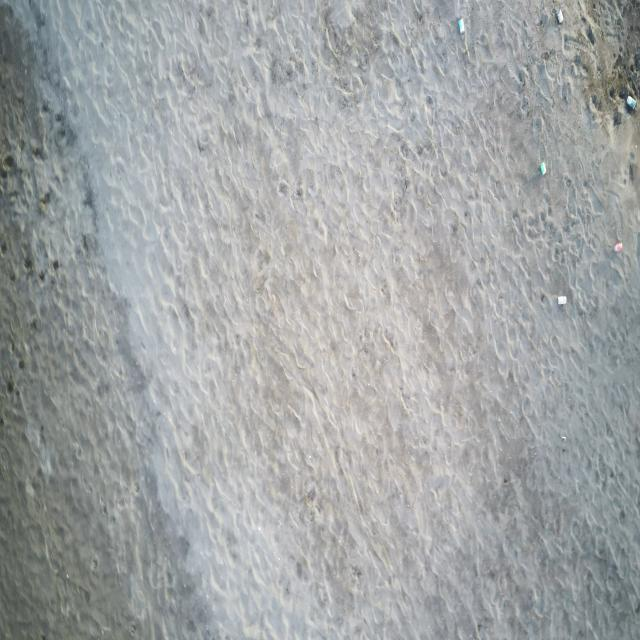Garbage: (587, 26, 595, 44), (555, 8, 563, 24), (613, 240, 623, 252), (627, 95, 635, 108), (539, 161, 546, 175), (612, 112, 620, 124), (457, 19, 464, 32), (557, 296, 566, 304), (560, 435, 566, 440)
